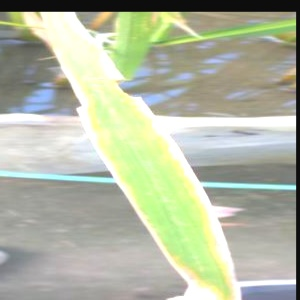Leaf_Blast: (120, 123, 234, 300)
